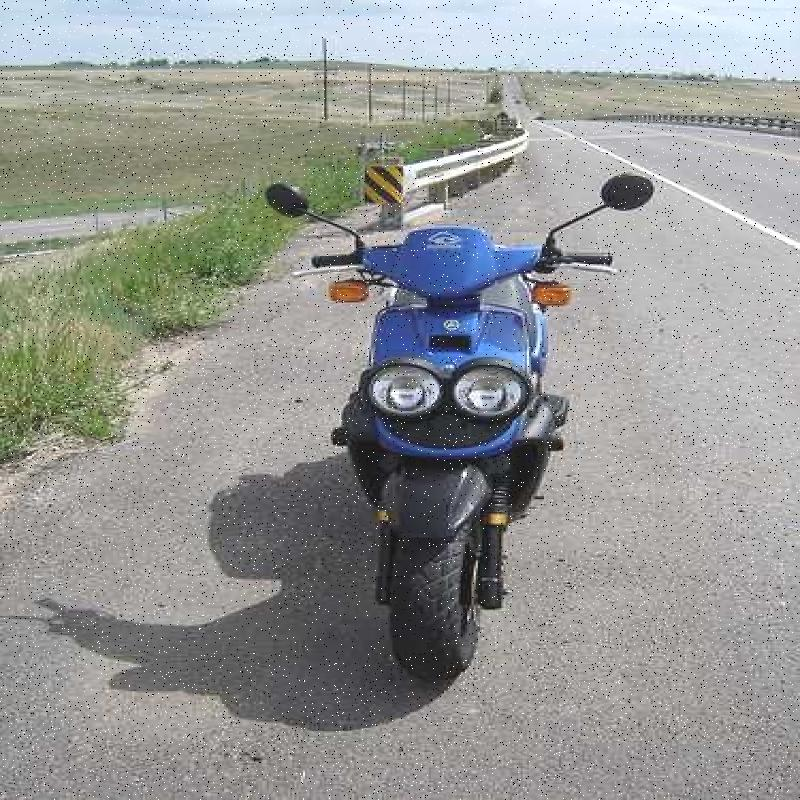bike: (266, 201, 643, 668)
